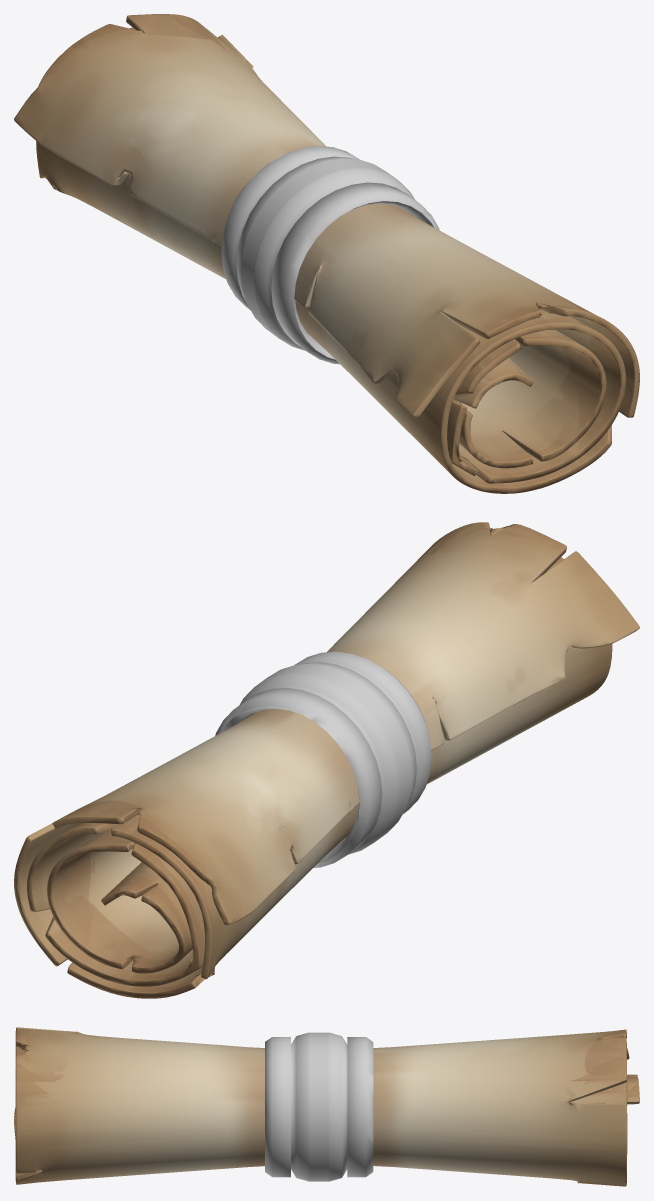
Rendered from scroll.fbx.
3 renders of one model, top to bottom at view 1: azimuth 30°, elevation 25°; view 2: azimuth 150°, elevation 25°; view 3: azimuth 270°, elevation 25°, orthographic. The views are drawn at different scales.
Parts seen in each view (by area): view 1: Circle; view 2: Circle; view 3: Circle.
Part boxes in pixels (x1,y1,x2,y2): Circle: (14, 14, 639, 493); Circle: (14, 522, 639, 998); Circle: (14, 1027, 639, 1186).
Size of the model in its own units: 90.8 by 69.17 by 288.
